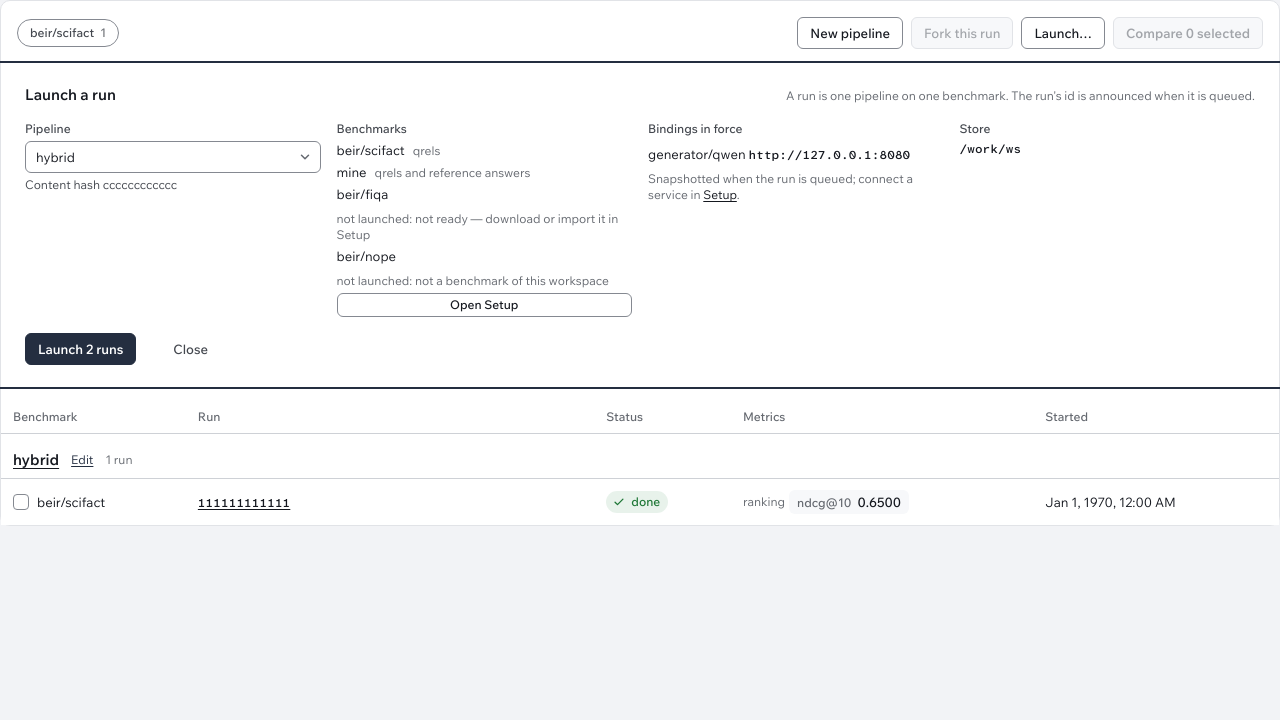
Test: the launch panel on several benchmarks › sends one POST /runs per launchable benchmark, in order, and says each outcome — queued or already held
The width and height of the screenshot is (1280, 720).
Step 1. Click the button "Launch 2 runs" → (81, 349), box [25,333,136,365]
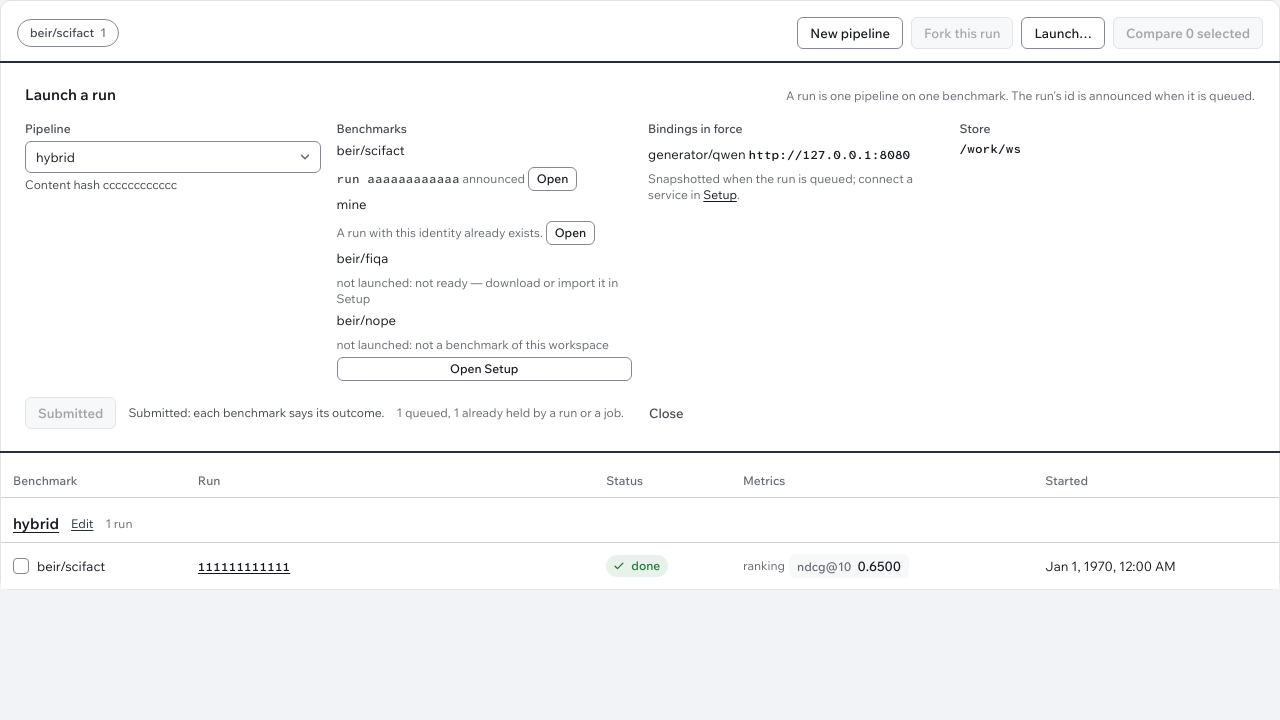
Result: the text "1 queued, 1 already held by a run or a job." is shown at [396,405,624,421]
Result: the list item "mine" shows "A run with this identity already exists." at [336,225,543,240]
